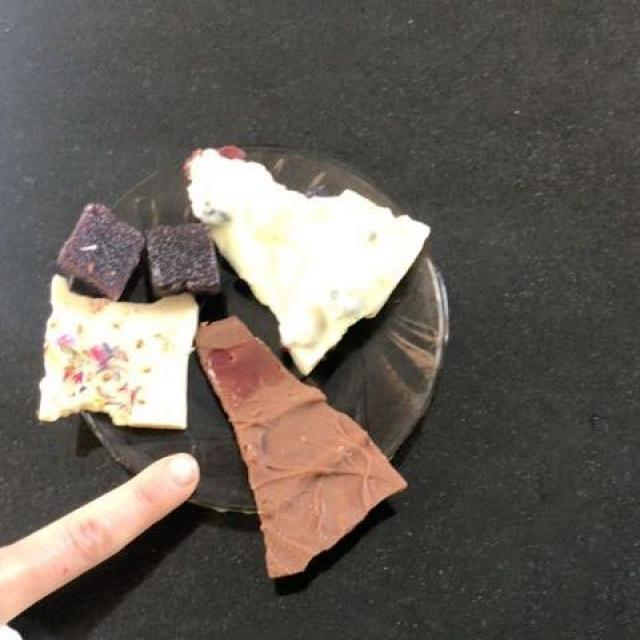chocolate: (36, 150, 433, 428), (196, 312, 403, 583)
